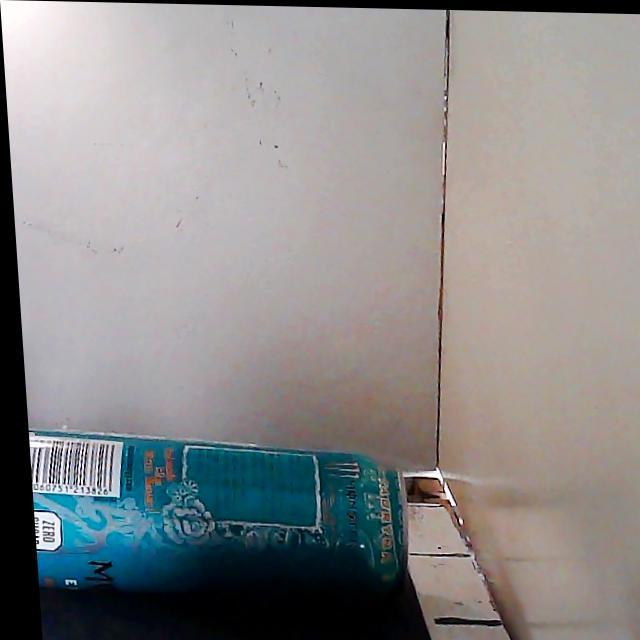metal: (31, 431, 407, 596)
